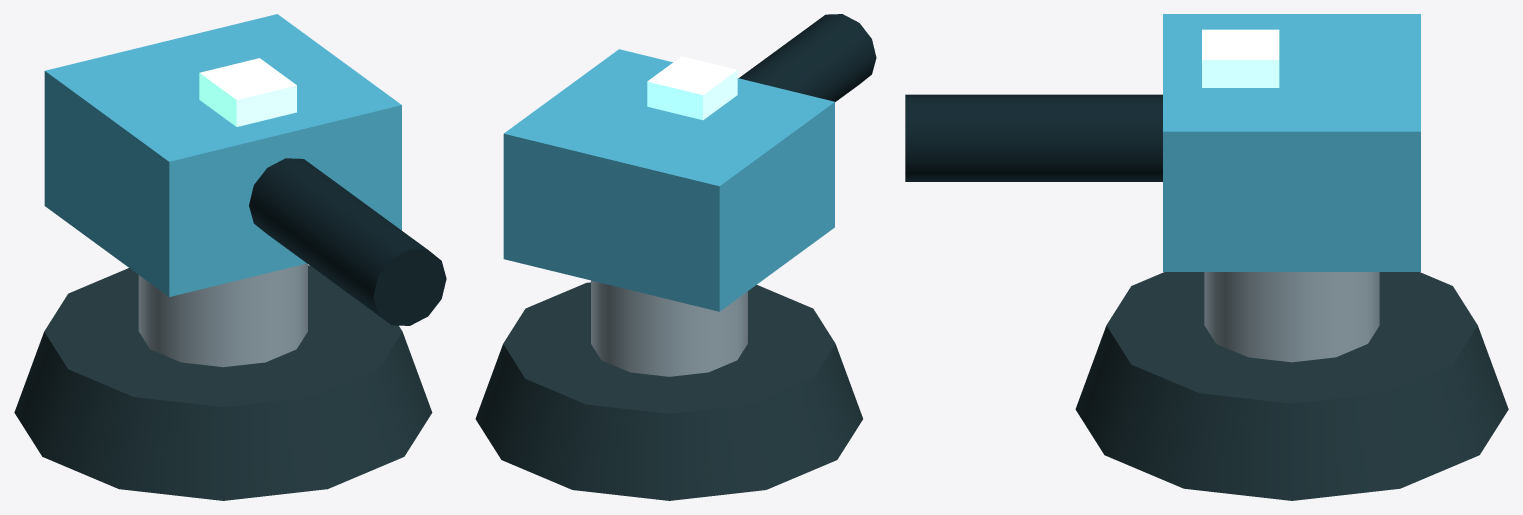
The model's file is sentry-turret.glb.
3 renders of one model, left to right at view 1: azimuth 30°, elevation 25°; view 2: azimuth 150°, elevation 25°; view 3: azimuth 270°, elevation 25°, orthographic. The views are drawn at different scales.
Parts seen in each view (by area): view 1: head, base, barrel, pivot, sight; view 2: head, base, pivot, barrel, sight; view 3: base, head, barrel, pivot, sight.
Part boxes in pixels (x1=…): head: x1=44, y1=14, x2=401, y2=296; base: x1=14, y1=265, x2=432, y2=500; barrel: x1=249, y1=158, x2=446, y2=325; pivot: x1=138, y1=263, x2=307, y2=367; sight: x1=199, y1=58, x2=296, y2=126; head: x1=503, y1=49, x2=834, y2=311; base: x1=475, y1=282, x2=862, y2=500; pivot: x1=591, y1=280, x2=747, y2=376; barrel: x1=739, y1=14, x2=876, y2=101; sight: x1=647, y1=56, x2=737, y2=120; base: x1=1075, y1=272, x2=1508, y2=500; head: x1=1163, y1=14, x2=1420, y2=271; barrel: x1=905, y1=94, x2=1162, y2=181; pivot: x1=1204, y1=272, x2=1379, y2=362; sight: x1=1202, y1=29, x2=1279, y2=87.
Bounding box in the file's own units: 0.84 × 0.78 × 1.17.
